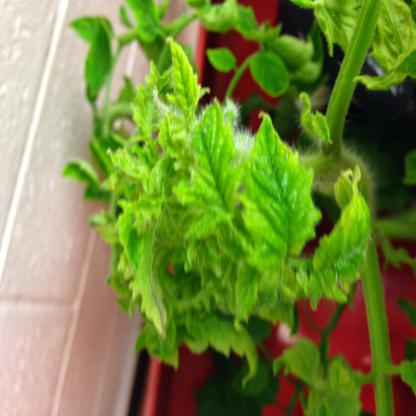Tomato leaf yellow virus: (247, 106, 324, 285), (187, 78, 242, 249), (312, 154, 372, 308)
